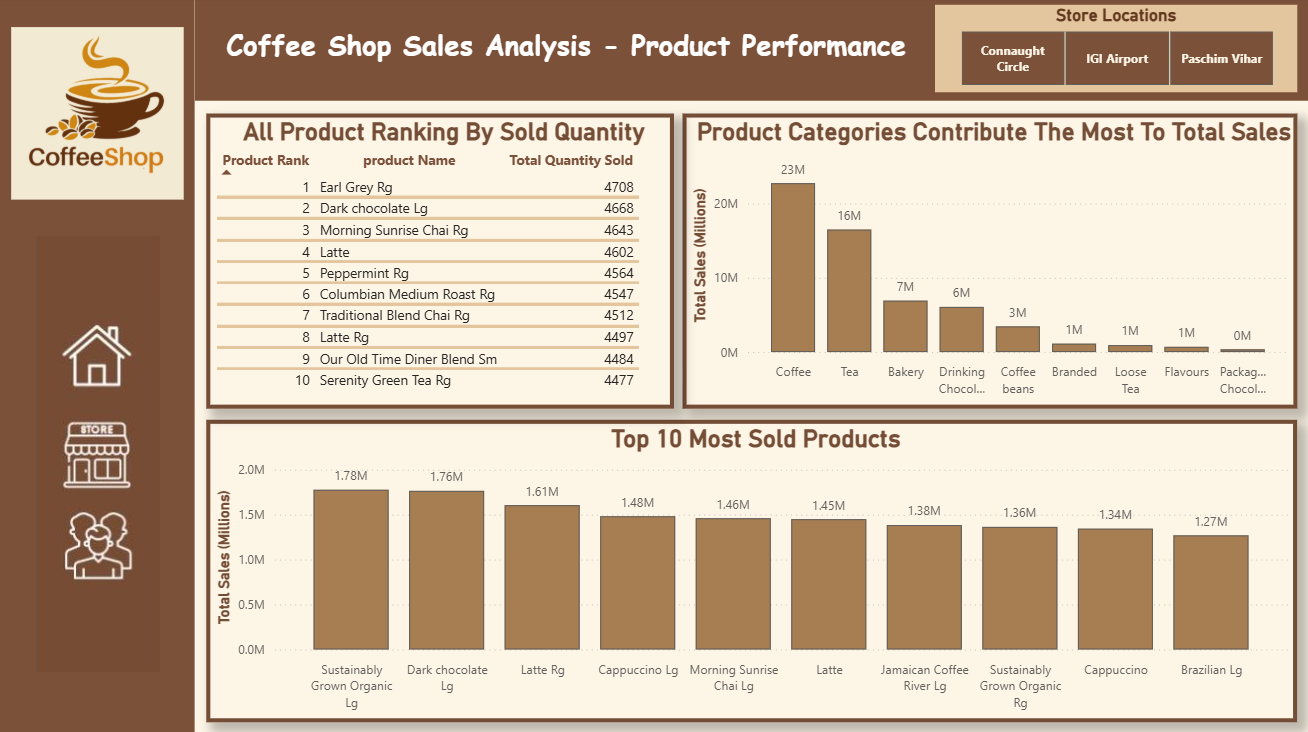

What the dashboard file says about the page in this screenshot:
{"tool":"powerbi","page":{"name":"Product Performance","canvas":[1280,720],"ordinal":1},"visuals":[{"type":"columnChart","title":"Product Categories Contribute The Most To Total Sales","fields":{"Y":["Measurments.Total Sales"],"Category":["Products.product_category"]},"box":[667.7,114.9,601.6,288.6],"z":0},{"type":"columnChart","title":"Top 10 Most Sold Products","fields":{"Category":["Products.product_detail"],"Y":["Measurments.Total Sales"]},"box":[201.8,414.5,1067.5,295.9],"z":1000},{"type":"tableEx","title":"All Product Ranking By Sold Quantity","fields":{"Values":["Measurments.ProductRank_byQuantity","Products.product_detail","Measurments.TotalQuantity_Sold"]},"box":[201.8,114.9,457.3,288.6],"z":2000},{"type":"shape","box":[0,0,190.6,720.7],"z":3000},{"type":"image","box":[6.1,0,178.5,229.9],"z":4000},{"type":"image","box":[3.7,229.9,184.6,436.6],"z":5000},{"type":"shape","box":[190.8,0,1089.5,102.7],"z":6000},{"type":"slicer","title":"Store Locations","fields":{"Values":["Orders.store_location"]},"box":[914.7,8.6,354.6,85.6],"z":7000},{"type":"textbox","box":[211.6,23.2,684.8,56.3],"z":8000}]}

Visuals, with their boxes in screenshot pixels (x1, y1, x2, y2), scaled from the page's 1280x720 canvas onto the 1308x732 screenshot:
"Product Categories Contribute The Most To Total Sales" columnChart: box(682, 117, 1297, 410)
"Top 10 Most Sold Products" columnChart: box(206, 421, 1297, 722)
"All Product Ranking By Sold Quantity" tableEx: box(206, 117, 674, 410)
shape: box(0, 0, 195, 731)
image: box(6, 0, 189, 234)
image: box(4, 234, 192, 678)
shape: box(195, 0, 1307, 104)
"Store Locations" slicer: box(935, 9, 1297, 96)
textbox: box(216, 24, 916, 81)
